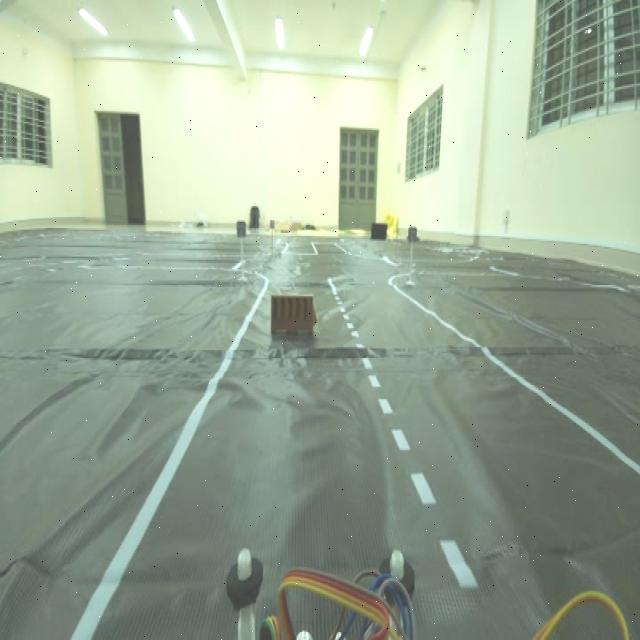roadblock: (266, 286, 318, 352)
